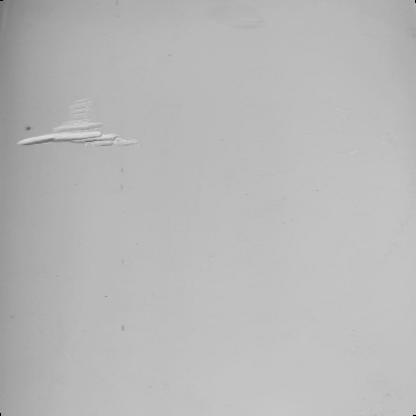sunshang: (12, 98, 143, 150)
